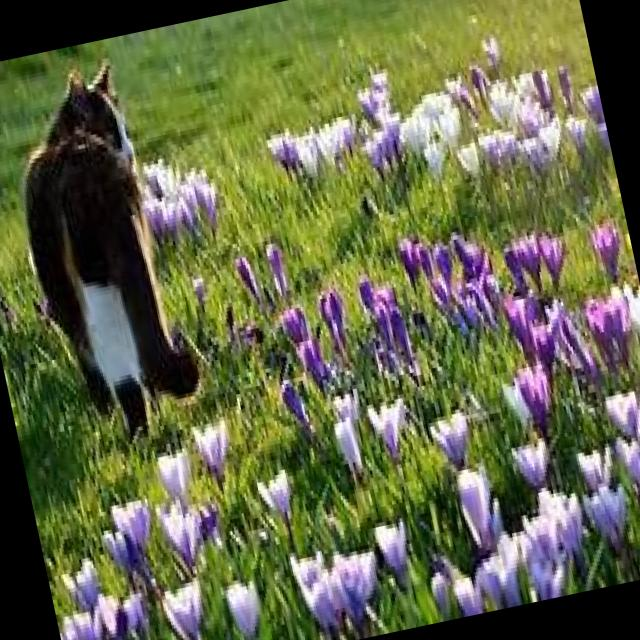animal: (0, 49, 209, 457)
